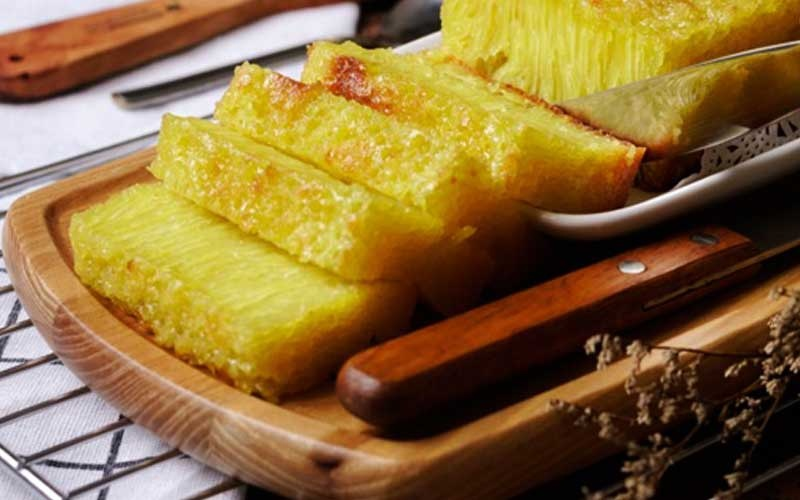bika_ambon: (68, 162, 415, 388)
